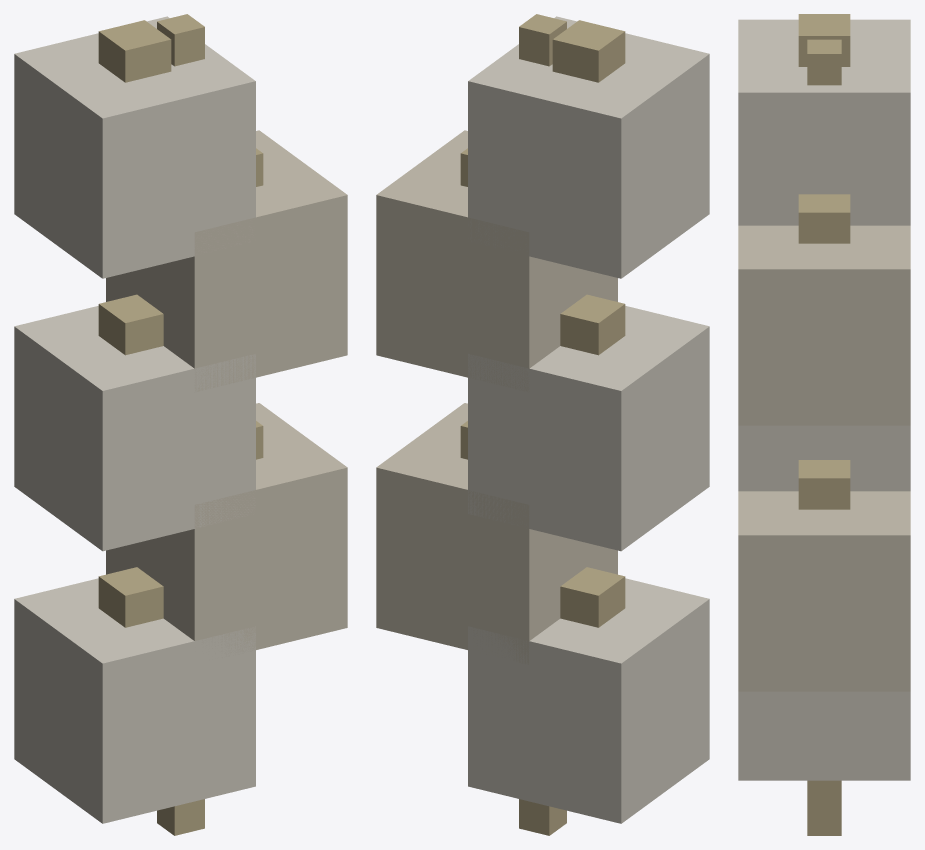
Rendered from cp-string-garlic.glb.
The picture shows the model from 3 angles, left to right: view 1: azimuth 30°, elevation 25°; view 2: azimuth 150°, elevation 25°; view 3: azimuth 270°, elevation 25°; orthographic projection. The views are drawn at different scales.
Visible parts, largest first — view 1: box-prop; view 2: box-prop; view 3: box-prop.
Part boxes in pixels (x1,y1,x2,y2): box-prop: (14,14,347,835); box-prop: (376,14,709,835); box-prop: (738,14,910,835).
Size of the model in its own units: 0.32 by 1 by 0.2.
